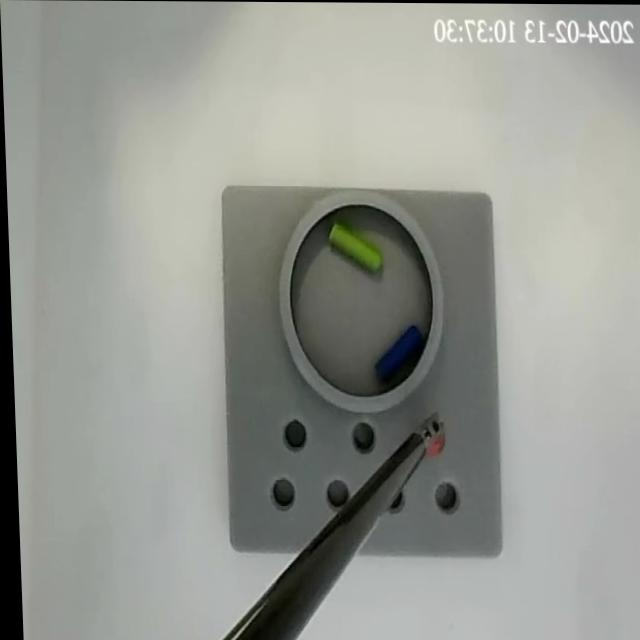EmptyHole: (425, 477, 460, 515), (262, 474, 294, 513), (374, 479, 405, 519), (276, 416, 306, 454), (317, 478, 349, 512), (344, 419, 374, 454)
FilledHole: (416, 417, 445, 456)
